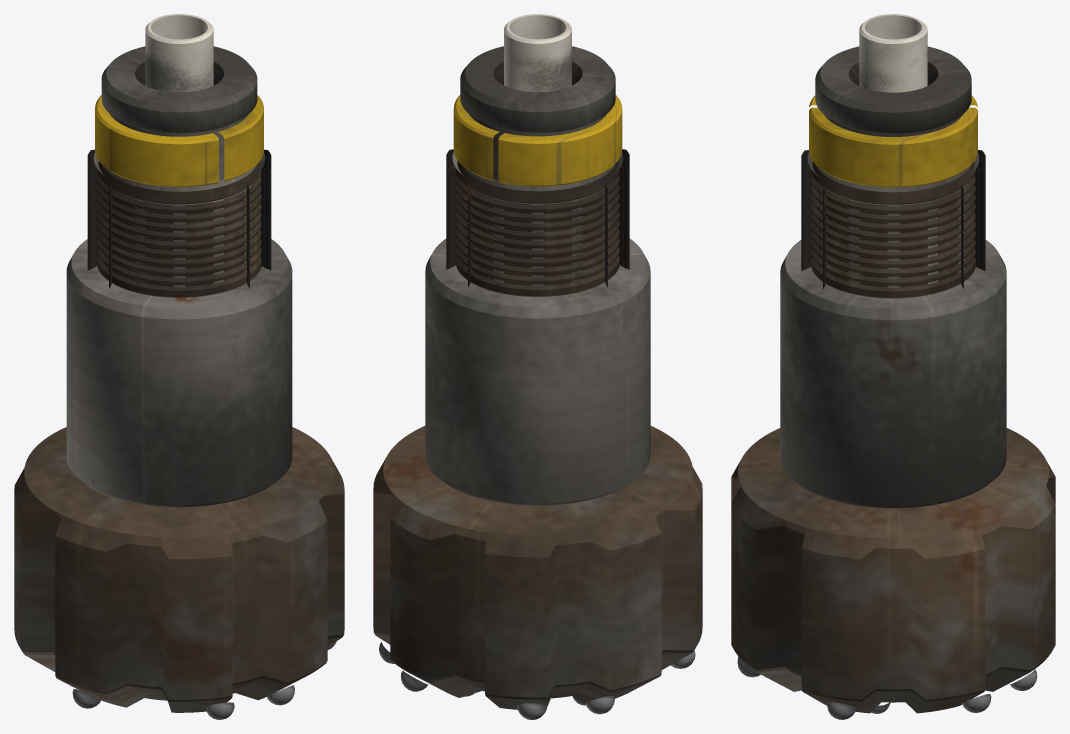
The model's file is SM_Bit_8po_AvecChuck.glb.
3 views of the same model, side by side, from view 1: azimuth 30°, elevation 25°; view 2: azimuth 150°, elevation 25°; view 3: azimuth 270°, elevation 25° (orthographic).
Visible parts, largest first — view 1: Bit_8po_AvecChuck_Bit, Bit_8po_AvecChuck_Chuck, Bit_8po_AvecChuck_Anneaux, Bit_8po_AvecChuck_TubeDePied, Bit_8po_AvecChuck_Boutons; view 2: Bit_8po_AvecChuck_Bit, Bit_8po_AvecChuck_Chuck, Bit_8po_AvecChuck_Anneaux, Bit_8po_AvecChuck_TubeDePied, Bit_8po_AvecChuck_Boutons; view 3: Bit_8po_AvecChuck_Bit, Bit_8po_AvecChuck_Chuck, Bit_8po_AvecChuck_Anneaux, Bit_8po_AvecChuck_TubeDePied, Bit_8po_AvecChuck_Boutons.
Boxes of the visible parts, x1,y1,x2,y2 form: Bit_8po_AvecChuck_Bit: (14,46,344,712); Bit_8po_AvecChuck_Chuck: (66,149,292,507); Bit_8po_AvecChuck_Anneaux: (95,95,263,187); Bit_8po_AvecChuck_TubeDePied: (145,14,213,92); Bit_8po_AvecChuck_Boutons: (72,641,336,719); Bit_8po_AvecChuck_Bit: (373,46,702,709); Bit_8po_AvecChuck_Chuck: (425,149,650,505); Bit_8po_AvecChuck_Anneaux: (453,95,622,186); Bit_8po_AvecChuck_TubeDePied: (504,14,571,92); Bit_8po_AvecChuck_Boutons: (379,641,695,719); Bit_8po_AvecChuck_Bit: (731,46,1055,713); Bit_8po_AvecChuck_Chuck: (780,150,1006,508); Bit_8po_AvecChuck_Anneaux: (809,95,977,187); Bit_8po_AvecChuck_TubeDePied: (859,14,927,92); Bit_8po_AvecChuck_Boutons: (737,657,1037,719).
Bounding box in the file's own units: 0.1993 × 0.4377 × 0.1993.
5 materials, 5 textured.
